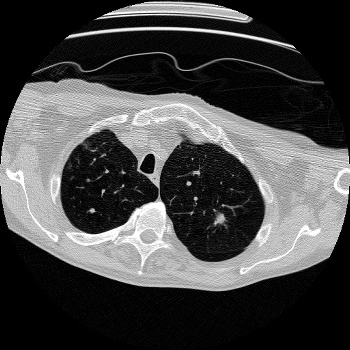PN: (90, 208, 96, 214)
